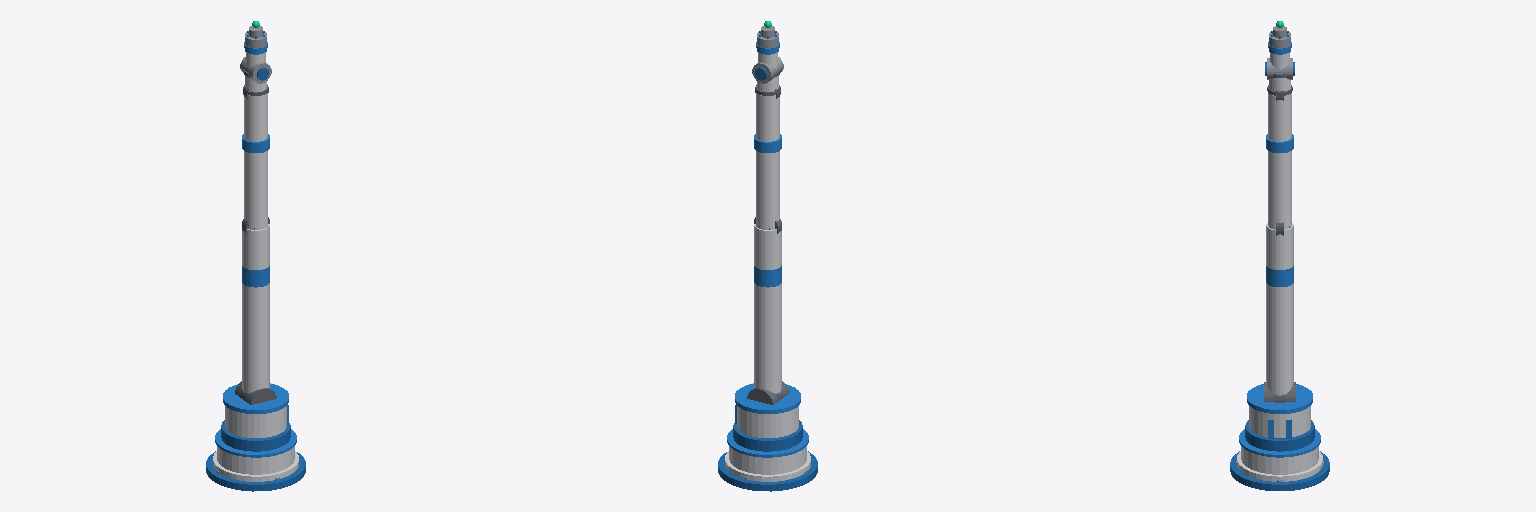
URDF robot description (jaka_zu5):
<?xml version="1.0" encoding="utf-8"?>
<robot name="jaka_zu5">
  <!-- JAKA Zu 5 — procedurally generated by orolp.robot_library.urdf_builder (payload 5 kg, reach 954 mm, 6 DOF, repeatability ±0.02 mm). Appearance: 44 primitives in 'cobot' style (primary/accent/metal/dark 4-role palette). No vendor CAD assets. Parameters verified=True. -->
  <link name="base_link">
    <visual>
      <origin xyz="0 0 0.008586" rpy="0 0 0"/>
      <geometry>
        <cylinder radius="0.116255" length="0.017172"/>
      </geometry>
      <material name="base_link_mat_0">
        <color rgba="0.17 0.4675 0.7225 1"/>
      </material>
    </visual>
    <visual>
      <origin xyz="0 0 0.024041" rpy="0 0 0"/>
      <geometry>
        <cylinder radius="0.100492" length="0.013738"/>
      </geometry>
      <material name="base_link_mat_1">
        <color rgba="0.86 0.87 0.89 1"/>
      </material>
    </visual>
    <visual>
      <origin xyz="0 0 0.05495" rpy="0 0 0"/>
      <geometry>
        <cylinder radius="0.09064" length="0.048082"/>
      </geometry>
      <material name="base_link_mat_2">
        <color rgba="0.86 0.87 0.89 1"/>
      </material>
    </visual>
    <visual>
      <origin xyz="0 0 0.080708" rpy="0 0 0"/>
      <geometry>
        <cylinder radius="0.095566" length="0.006869"/>
      </geometry>
      <material name="base_link_mat_3">
        <color rgba="0.2 0.55 0.85 1"/>
      </material>
    </visual>
    <visual>
      <origin xyz="0.096551 0 0.01202" rpy="0 0 0"/>
      <geometry>
        <cylinder radius="0.006896" length="0.018889"/>
      </geometry>
      <material name="base_link_mat_4">
        <color rgba="0.6 0.63 0.67 1"/>
      </material>
    </visual>
    <visual>
      <origin xyz="0 0.096551 0.01202" rpy="0 0 0"/>
      <geometry>
        <cylinder radius="0.006896" length="0.018889"/>
      </geometry>
      <material name="base_link_mat_5">
        <color rgba="0.6 0.63 0.67 1"/>
      </material>
    </visual>
    <visual>
      <origin xyz="-0.096551 0 0.01202" rpy="0 0 0"/>
      <geometry>
        <cylinder radius="0.006896" length="0.018889"/>
      </geometry>
      <material name="base_link_mat_6">
        <color rgba="0.6 0.63 0.67 1"/>
      </material>
    </visual>
    <visual>
      <origin xyz="0.0 -0.096551 0.01202" rpy="0 0 0"/>
      <geometry>
        <cylinder radius="0.006896" length="0.018889"/>
      </geometry>
      <material name="base_link_mat_7">
        <color rgba="0.6 0.63 0.67 1"/>
      </material>
    </visual>
    <collision>
      <origin xyz="0 0 0.04293" rpy="0 0 0"/>
      <geometry>
        <cylinder radius="0.098521" length="0.08586"/>
      </geometry>
    </collision>
  </link>
  <joint name="joint_1" type="revolute">
    <parent link="base_link"/>
    <child link="link_1"/>
    <origin xyz="0 0 0.08586" rpy="0 0 0"/>
    <axis xyz="0 0 1"/>
    <limit lower="-6.283185" upper="6.283185" effort="70" velocity="3.141593"/>
  </joint>
  <link name="link_1">
    <visual>
      <origin xyz="0 0 0.013642" rpy="0 0 0"/>
      <geometry>
        <cylinder radius="0.080851" length="0.027284"/>
      </geometry>
      <material name="link_1_mat_0">
        <color rgba="0.17 0.4675 0.7225 1"/>
      </material>
    </visual>
    <visual>
      <origin xyz="0 0 0.062964" rpy="0 0 0"/>
      <geometry>
        <cylinder radius="0.073224" length="0.065063"/>
      </geometry>
      <material name="link_1_mat_1">
        <color rgba="0.86 0.87 0.89 1"/>
      </material>
    </visual>
    <visual>
      <origin xyz="0 0 0.099693" rpy="0 0 0"/>
      <geometry>
        <cylinder radius="0.0778" length="0.010494"/>
      </geometry>
      <material name="link_1_mat_2">
        <color rgba="0.2 0.55 0.85 1"/>
      </material>
    </visual>
    <visual>
      <origin xyz="0 0 0.101792" rpy="1.570796 0 0"/>
      <geometry>
        <cylinder radius="0.035595" length="0.075003"/>
      </geometry>
      <material name="link_1_mat_3">
        <color rgba="0.432 0.4536 0.4824 1"/>
      </material>
    </visual>
    <visual>
      <origin xyz="0.068647 0 0.050371" rpy="0 0 0"/>
      <geometry>
        <box size="0.006356 0.054663 0.05247"/>
      </geometry>
      <material name="link_1_mat_4">
        <color rgba="0.2 0.55 0.85 1"/>
      </material>
    </visual>
    <collision>
      <origin xyz="0 0 0.05247" rpy="0 0 0"/>
      <geometry>
        <cylinder radius="0.076275" length="0.10494"/>
      </geometry>
    </collision>
  </link>
  <joint name="joint_2" type="revolute">
    <parent link="link_1"/>
    <child link="link_2"/>
    <origin xyz="0 0 0.10494" rpy="0 0 0"/>
    <axis xyz="0 1 0"/>
    <limit lower="-1.48353" upper="4.625123" effort="70" velocity="3.141593"/>
  </joint>
  <link name="link_2">
    <visual>
      <origin xyz="0 0 0.21942" rpy="0 0 0"/>
      <geometry>
        <cylinder radius="0.031781" length="0.43884"/>
      </geometry>
      <material name="link_2_mat_0">
        <color rgba="0.86 0.87 0.89 1"/>
      </material>
    </visual>
    <visual>
      <origin xyz="0 0 0" rpy="1.570796 0 0"/>
      <geometry>
        <cylinder radius="0.035595" length="0.021611"/>
      </geometry>
      <material name="link_2_mat_1">
        <color rgba="0.432 0.4536 0.4824 1"/>
      </material>
    </visual>
    <visual>
      <origin xyz="0 0 0.43884" rpy="1.570796 0 0"/>
      <geometry>
        <cylinder radius="0.033052" length="0.02034"/>
      </geometry>
      <material name="link_2_mat_2">
        <color rgba="0.432 0.4536 0.4824 1"/>
      </material>
    </visual>
    <visual>
      <origin xyz="0 0.019069 0" rpy="1.570796 0 0"/>
      <geometry>
        <cylinder radius="0.019069" length="0.01017"/>
      </geometry>
      <material name="link_2_mat_3">
        <color rgba="0.17 0.4675 0.7225 1"/>
      </material>
    </visual>
    <visual>
      <origin xyz="0 -0.019069 0" rpy="1.570796 0 0"/>
      <geometry>
        <cylinder radius="0.019069" length="0.01017"/>
      </geometry>
      <material name="link_2_mat_4">
        <color rgba="0.17 0.4675 0.7225 1"/>
      </material>
    </visual>
    <visual>
      <origin xyz="0 0.017797 0.43884" rpy="1.570796 0 0"/>
      <geometry>
        <cylinder radius="0.017797" length="0.01017"/>
      </geometry>
      <material name="link_2_mat_5">
        <color rgba="0.17 0.4675 0.7225 1"/>
      </material>
    </visual>
    <visual>
      <origin xyz="0 -0.017797 0.43884" rpy="1.570796 0 0"/>
      <geometry>
        <cylinder radius="0.017797" length="0.01017"/>
      </geometry>
      <material name="link_2_mat_6">
        <color rgba="0.17 0.4675 0.7225 1"/>
      </material>
    </visual>
    <visual>
      <origin xyz="0 0 0.315965" rpy="0 0 0"/>
      <geometry>
        <cylinder radius="0.033052" length="0.043884"/>
      </geometry>
      <material name="link_2_mat_7">
        <color rgba="0.2 0.55 0.85 1"/>
      </material>
    </visual>
    <collision>
      <origin xyz="0 0 0.21942" rpy="0 0 0"/>
      <geometry>
        <box size="0.063562 0.052121 0.43884"/>
      </geometry>
    </collision>
  </link>
  <joint name="joint_3" type="revolute">
    <parent link="link_2"/>
    <child link="link_3"/>
    <origin xyz="0 0 0.43884" rpy="0 0 0"/>
    <axis xyz="0 1 0"/>
    <limit lower="-3.054326" upper="3.054326" effort="70" velocity="3.141593"/>
  </joint>
  <link name="link_3">
    <visual>
      <origin xyz="0 0 0.17172" rpy="0 0 0"/>
      <geometry>
        <cylinder radius="0.027967" length="0.34344"/>
      </geometry>
      <material name="link_3_mat_0">
        <color rgba="0.86 0.87 0.89 1"/>
      </material>
    </visual>
    <visual>
      <origin xyz="0 0 0" rpy="1.570796 0 0"/>
      <geometry>
        <cylinder radius="0.033052" length="0.02034"/>
      </geometry>
      <material name="link_3_mat_1">
        <color rgba="0.432 0.4536 0.4824 1"/>
      </material>
    </visual>
    <visual>
      <origin xyz="0 0 0.34344" rpy="1.570796 0 0"/>
      <geometry>
        <cylinder radius="0.029239" length="0.019069"/>
      </geometry>
      <material name="link_3_mat_2">
        <color rgba="0.432 0.4536 0.4824 1"/>
      </material>
    </visual>
    <visual>
      <origin xyz="0 0 0.212933" rpy="0 0 0"/>
      <geometry>
        <cylinder radius="0.033052" length="0.027475"/>
      </geometry>
      <material name="link_3_mat_3">
        <color rgba="0.2 0.55 0.85 1"/>
      </material>
    </visual>
    <visual>
      <origin xyz="0 0 0.329702" rpy="0 0 0"/>
      <geometry>
        <cylinder radius="0.025425" length="0.013984"/>
      </geometry>
      <material name="link_3_mat_4">
        <color rgba="0.6 0.63 0.67 1"/>
      </material>
    </visual>
    <collision>
      <origin xyz="0 0 0.17172" rpy="0 0 0"/>
      <geometry>
        <box size="0.059748 0.048994 0.34344"/>
      </geometry>
    </collision>
  </link>
  <joint name="joint_4" type="revolute">
    <parent link="link_3"/>
    <child link="link_4"/>
    <origin xyz="0 0 0.34344" rpy="0 0 0"/>
    <axis xyz="0 0 1"/>
    <limit lower="-1.48353" upper="4.625123" effort="70" velocity="3.141593"/>
  </joint>
  <link name="link_4">
    <visual>
      <origin xyz="0 0 0.02862" rpy="0 0 0"/>
      <geometry>
        <cylinder radius="0.026696" length="0.053806"/>
      </geometry>
      <material name="link_4_mat_0">
        <color rgba="0.86 0.87 0.89 1"/>
      </material>
    </visual>
    <visual>
      <origin xyz="0 0 0.005724" rpy="0 0 0"/>
      <geometry>
        <cylinder radius="0.029239" length="0.009158"/>
      </geometry>
      <material name="link_4_mat_1">
        <color rgba="0.432 0.4536 0.4824 1"/>
      </material>
    </visual>
    <visual>
      <origin xyz="0 0 0.051516" rpy="0 0 0"/>
      <geometry>
        <cylinder radius="0.029239" length="0.009158"/>
      </geometry>
      <material name="link_4_mat_2">
        <color rgba="0.432 0.4536 0.4824 1"/>
      </material>
    </visual>
    <collision>
      <origin xyz="0 0 0.02862" rpy="0 0 0"/>
      <geometry>
        <cylinder radius="0.027967" length="0.05724"/>
      </geometry>
    </collision>
  </link>
  <joint name="joint_5" type="revolute">
    <parent link="link_4"/>
    <child link="link_5"/>
    <origin xyz="0 0 0.05724" rpy="0 0 0"/>
    <axis xyz="0 1 0"/>
    <limit lower="-6.283185" upper="6.283185" effort="70" velocity="3.141593"/>
  </joint>
  <link name="link_5">
    <visual>
      <origin xyz="0 0 0" rpy="1.570796 0 0"/>
      <geometry>
        <cylinder radius="0.025425" length="0.058477"/>
      </geometry>
      <material name="link_5_mat_0">
        <color rgba="0.6 0.63 0.67 1"/>
      </material>
    </visual>
    <visual>
      <origin xyz="0 0 0.025758" rpy="0 0 0"/>
      <geometry>
        <cylinder radius="0.024154" length="0.049226"/>
      </geometry>
      <material name="link_5_mat_1">
        <color rgba="0.86 0.87 0.89 1"/>
      </material>
    </visual>
    <visual>
      <origin xyz="0 0 0.053806" rpy="0 0 0"/>
      <geometry>
        <cylinder radius="0.026696" length="0.009158"/>
      </geometry>
      <material name="link_5_mat_2">
        <color rgba="0.2 0.55 0.85 1"/>
      </material>
    </visual>
    <visual>
      <origin xyz="0 0.031781 0" rpy="1.570796 0 0"/>
      <geometry>
        <cylinder radius="0.015255" length="0.006356"/>
      </geometry>
      <material name="link_5_mat_3">
        <color rgba="0.17 0.4675 0.7225 1"/>
      </material>
    </visual>
    <visual>
      <origin xyz="0 -0.031781 0" rpy="1.570796 0 0"/>
      <geometry>
        <cylinder radius="0.015255" length="0.006356"/>
      </geometry>
      <material name="link_5_mat_4">
        <color rgba="0.17 0.4675 0.7225 1"/>
      </material>
    </visual>
    <collision>
      <origin xyz="0 0 0.02862" rpy="0 0 0"/>
      <geometry>
        <box size="0.054028 0.044303 0.05724"/>
      </geometry>
    </collision>
  </link>
  <joint name="joint_6" type="revolute">
    <parent link="link_5"/>
    <child link="tool0"/>
    <origin xyz="0 0 0.05724" rpy="0 0 0"/>
    <axis xyz="0 0 1"/>
    <limit lower="-6.283185" upper="6.283185" effort="70" velocity="3.141593"/>
  </joint>
  <link name="tool0">
    <visual>
      <origin xyz="0 0 0.014882" rpy="0 0 0"/>
      <geometry>
        <cylinder radius="0.026696" length="0.029765"/>
      </geometry>
      <material name="tool0_mat_0">
        <color rgba="0.6 0.63 0.67 1"/>
      </material>
    </visual>
    <visual>
      <origin xyz="0 0 0.038351" rpy="0 0 0"/>
      <geometry>
        <cylinder radius="0.016552" length="0.017172"/>
      </geometry>
      <material name="tool0_mat_1">
        <color rgba="0.6 0.63 0.67 1"/>
      </material>
    </visual>
    <visual>
      <origin xyz="0 0 0.004007" rpy="0 0 0"/>
      <geometry>
        <cylinder radius="0.028298" length="0.008014"/>
      </geometry>
      <material name="tool0_mat_2">
        <color rgba="0.2 0.55 0.85 1"/>
      </material>
    </visual>
    <visual>
      <origin xyz="0.020823 0 0.02862" rpy="0 0 0"/>
      <geometry>
        <cylinder radius="0.002403" length="0.012593"/>
      </geometry>
      <material name="tool0_mat_3">
        <color rgba="0.17 0.4675 0.7225 1"/>
      </material>
    </visual>
    <visual>
      <origin xyz="0.010411 0.018033 0.02862" rpy="0 0 0"/>
      <geometry>
        <cylinder radius="0.002403" length="0.012593"/>
      </geometry>
      <material name="tool0_mat_4">
        <color rgba="0.17 0.4675 0.7225 1"/>
      </material>
    </visual>
    <visual>
      <origin xyz="-0.010411 0.018033 0.02862" rpy="0 0 0"/>
      <geometry>
        <cylinder radius="0.002403" length="0.012593"/>
      </geometry>
      <material name="tool0_mat_5">
        <color rgba="0.17 0.4675 0.7225 1"/>
      </material>
    </visual>
    <visual>
      <origin xyz="-0.020823 0 0.02862" rpy="0 0 0"/>
      <geometry>
        <cylinder radius="0.002403" length="0.012593"/>
      </geometry>
      <material name="tool0_mat_6">
        <color rgba="0.17 0.4675 0.7225 1"/>
      </material>
    </visual>
    <visual>
      <origin xyz="-0.010411 -0.018033 0.02862" rpy="0 0 0"/>
      <geometry>
        <cylinder radius="0.002403" length="0.012593"/>
      </geometry>
      <material name="tool0_mat_7">
        <color rgba="0.17 0.4675 0.7225 1"/>
      </material>
    </visual>
    <visual>
      <origin xyz="0.010411 -0.018033 0.02862" rpy="0 0 0"/>
      <geometry>
        <cylinder radius="0.002403" length="0.012593"/>
      </geometry>
      <material name="tool0_mat_8">
        <color rgba="0.17 0.4675 0.7225 1"/>
      </material>
    </visual>
    <collision>
      <origin xyz="0 0 0.02862" rpy="0 0 0"/>
      <geometry>
        <cylinder radius="0.026696" length="0.05724"/>
      </geometry>
    </collision>
  </link>
  <link name="tcp">
    <visual>
      <origin xyz="0 0 0" rpy="0 0 0"/>
      <geometry>
        <sphere radius="0.009077"/>
      </geometry>
      <material name="tcp_mat">
        <color rgba="0.15 0.85 0.55 1"/>
      </material>
    </visual>
  </link>
  <joint name="tcp_joint" type="fixed">
    <parent link="tool0"/>
    <child link="tcp"/>
    <origin xyz="0 0 0.05724" rpy="0 0 0"/>
  </joint>
</robot>

--- Facts derived from the render (not from the file) ---
3 views of the same robot in one strip: view 1: azimuth 30°, elevation 25°; view 2: azimuth 150°, elevation 25°; view 3: azimuth 270°, elevation 25° (orthographic).
Robot: jaka_zu5 — 8 links, 7 joints (6 revolute, 1 fixed); root link base_link; default pose: every joint at zero.
Visible links, largest first — view 1: link_2, link_1, base_link, link_3, link_5; view 2: link_2, link_1, base_link, link_3, link_5; view 3: link_2, base_link, link_1, link_3, link_5.
Boxes of the visible links, x1,y1,x2,y2 form: link_2: (240,217,269,400); link_1: (221,381,290,451); base_link: (206,429,305,491); link_3: (242,85,269,229); link_5: (240,49,271,83); link_2: (754,217,783,400); link_1: (733,381,802,451); base_link: (718,429,817,491); link_3: (754,85,781,229); link_5: (752,49,783,83); link_2: (1266,222,1293,402); base_link: (1230,429,1329,490); link_1: (1245,382,1314,451); link_3: (1266,90,1293,229); link_5: (1265,49,1294,79).
Size in the robot's own frame: 0.2325 by 0.2325 by 1.15 metres.
Geometry: primitives only (box / cylinder / sphere), no mesh files.
